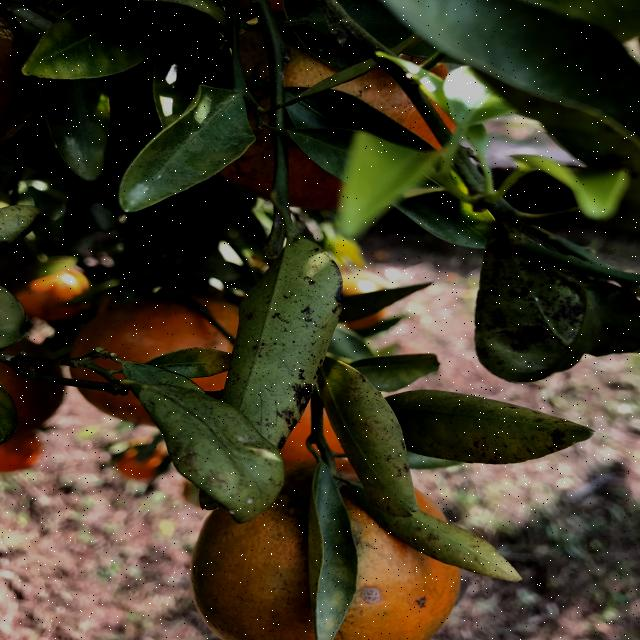melanose: (209, 239, 341, 471), (447, 200, 603, 396), (368, 388, 586, 463)
